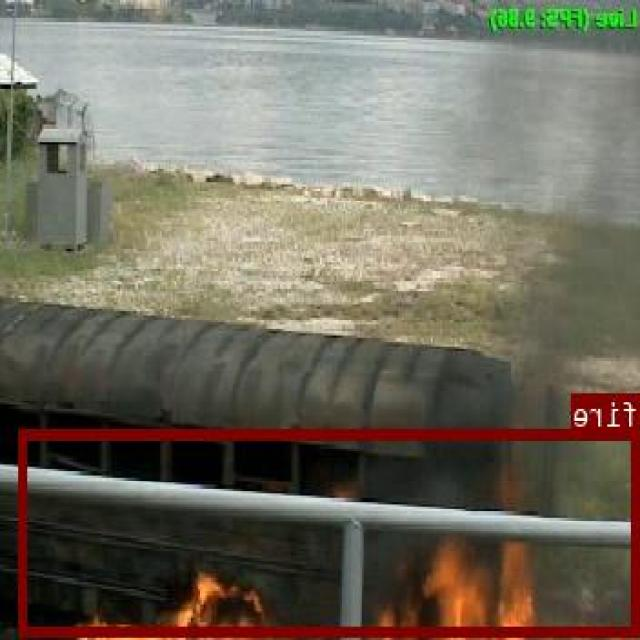fire: (22, 428, 640, 634)
